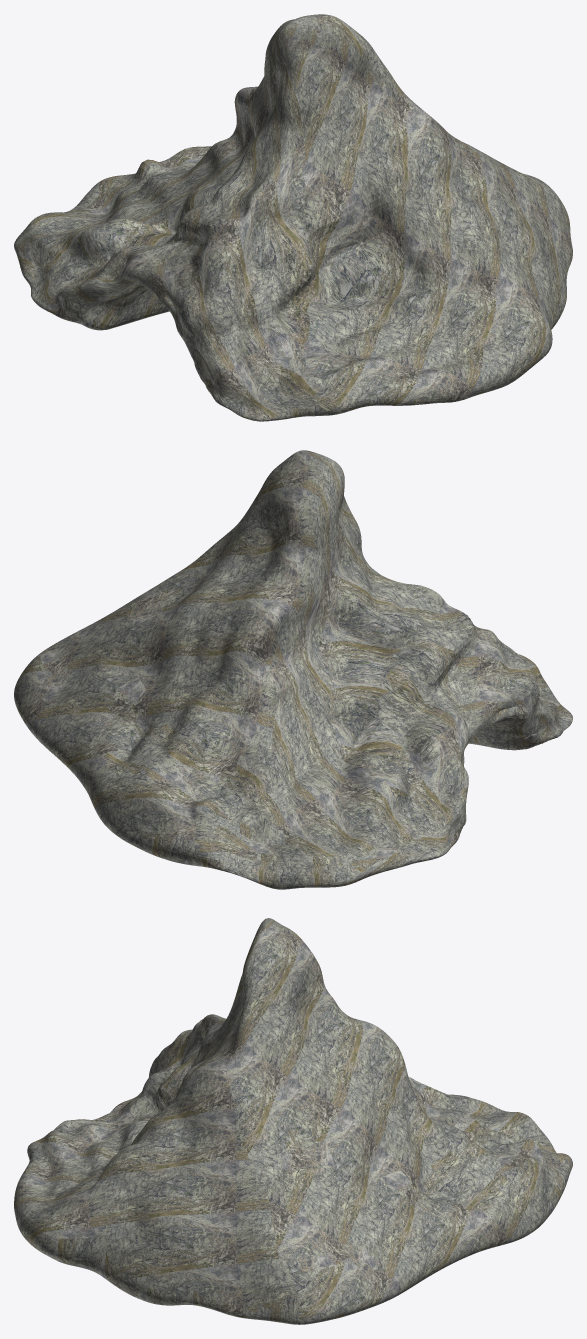
The model's file is CaveEntrance.fbx.
3 views of the same model, one above another, from view 1: azimuth 30°, elevation 25°; view 2: azimuth 150°, elevation 25°; view 3: azimuth 270°, elevation 25° (orthographic). The views are drawn at different scales.
Parts seen in each view (by area): view 1: Cube; view 2: Cube; view 3: Cube.
Part boxes in pixels (bbox=[...]): Cube: bbox=[14, 14, 572, 421]; Cube: bbox=[14, 450, 572, 889]; Cube: bbox=[14, 918, 572, 1324].
Size of the model in its own units: 609 by 380 by 648.
1 material, 1 textured.
